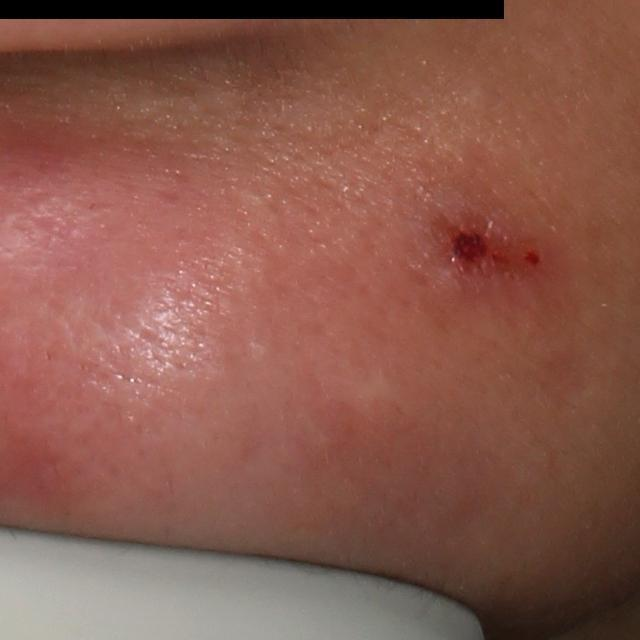papule: (424, 195, 537, 296)
